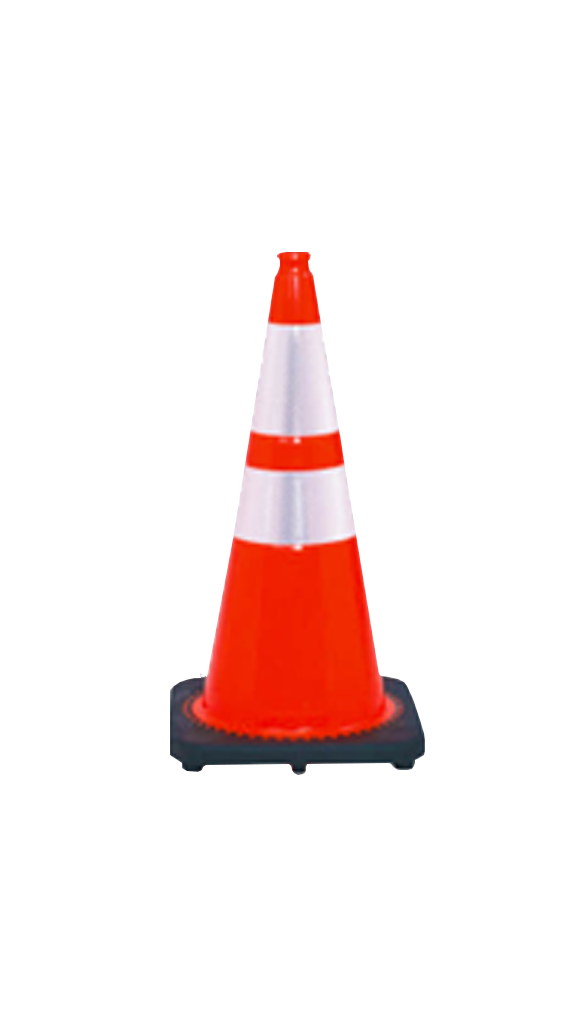Road_cone: (140, 249, 436, 794)
